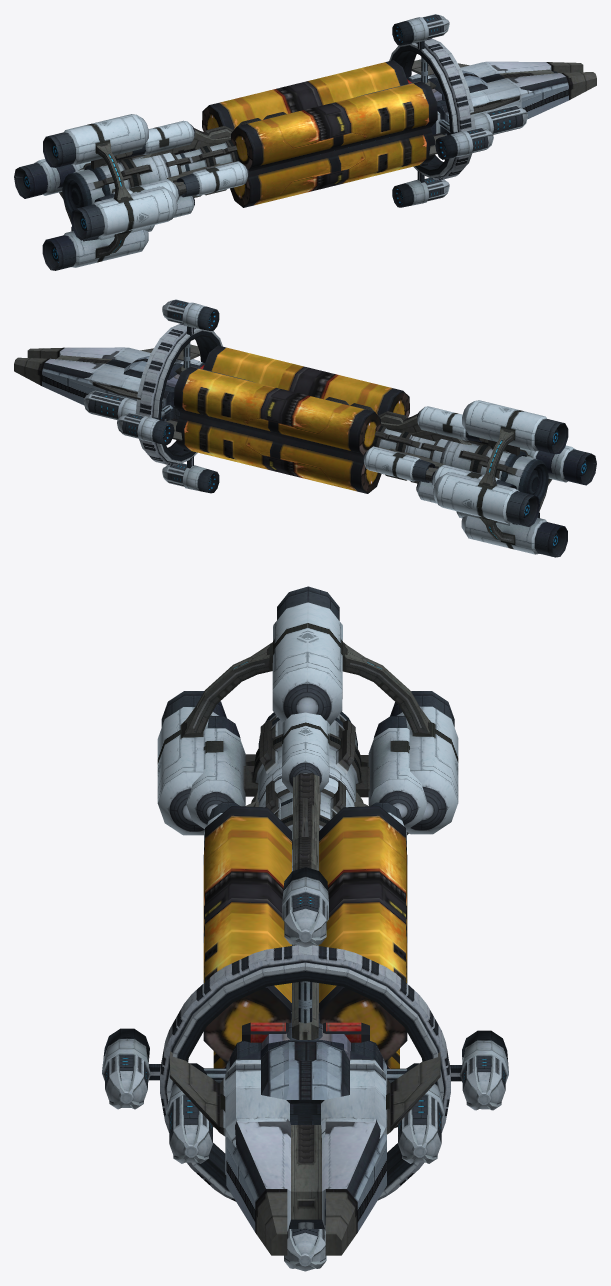
The model's file is ts_qdfc000.FBX.
3 renders of one model, top to bottom at view 1: azimuth 30°, elevation 25°; view 2: azimuth 150°, elevation 25°; view 3: azimuth 270°, elevation 25°, orthographic. The views are drawn at different scales.
Visible parts, largest first — view 1: ts_jbfc005, ts_jbfc004, ts_jbfc002, ts_jbfc003, ts_jbfc001; view 2: ts_jbfc005, ts_jbfc004, ts_jbfc003, ts_jbfc002, ts_jbfc001; view 3: ts_jbfc005, ts_jbfc004, ts_jbfc003, ts_jbfc002.
Boxes of the visible parts, <box> form: ts_jbfc005: <box>14,14,596,270</box>; ts_jbfc004: <box>56,59,557,241</box>; ts_jbfc002: <box>177,111,440,197</box>; ts_jbfc003: <box>129,120,445,217</box>; ts_jbfc001: <box>204,112,286,195</box>; ts_jbfc005: <box>14,299,596,557</box>; ts_jbfc004: <box>83,344,554,525</box>; ts_jbfc003: <box>166,399,481,503</box>; ts_jbfc002: <box>180,403,435,483</box>; ts_jbfc001: <box>325,397,407,480</box>; ts_jbfc005: <box>102,586,508,1271</box>; ts_jbfc004: <box>166,716,444,1225</box>; ts_jbfc003: <box>213,712,397,1127</box>; ts_jbfc002: <box>204,798,406,865</box>.
Size of the model in its own units: 7.45 by 2.44 by 2.44.
1 material, 1 textured.
